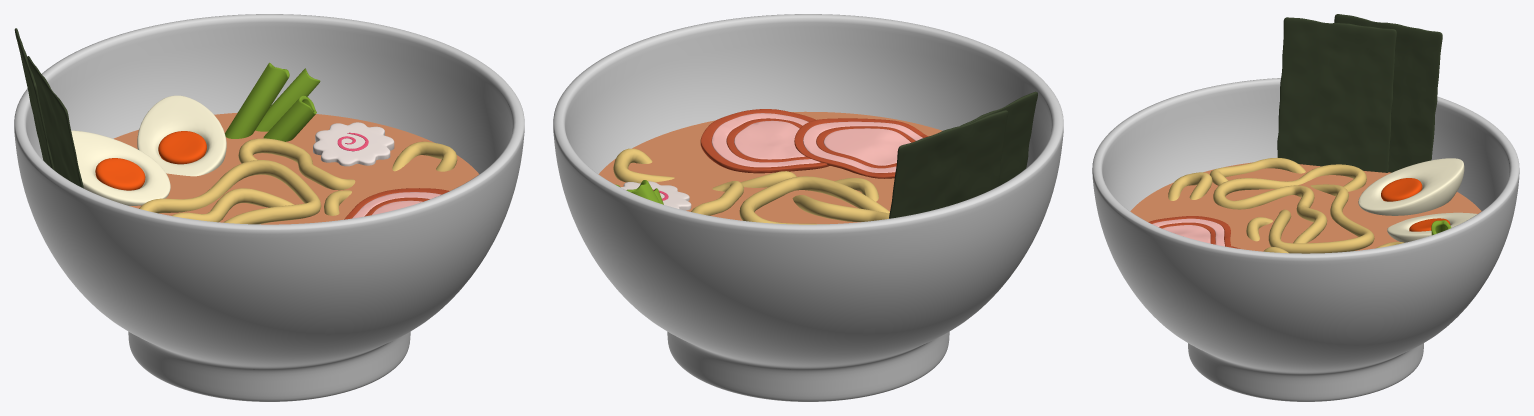
Rendered from RAMEN.fbx.
3 views of the same model, side by side, from view 1: azimuth 30°, elevation 25°; view 2: azimuth 150°, elevation 25°; view 3: azimuth 270°, elevation 25° (orthographic). The views are drawn at different scales.
Parts seen in each view (by area): view 1: Porkbelly.011; view 2: Porkbelly.011; view 3: Porkbelly.011.
Boxes of the visible parts, x1=… form: Porkbelly.011: x1=14, y1=14, x2=524, y2=401; Porkbelly.011: x1=553, y1=14, x2=1063, y2=401; Porkbelly.011: x1=1092, y1=14, x2=1519, y2=401.
Size of the model in its own units: 198 by 129 by 198.
